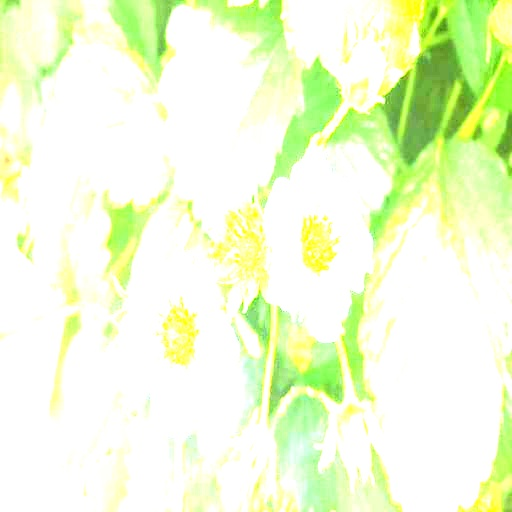Blossom Blight: (143, 291, 207, 383), (292, 195, 345, 282), (223, 212, 267, 277)
